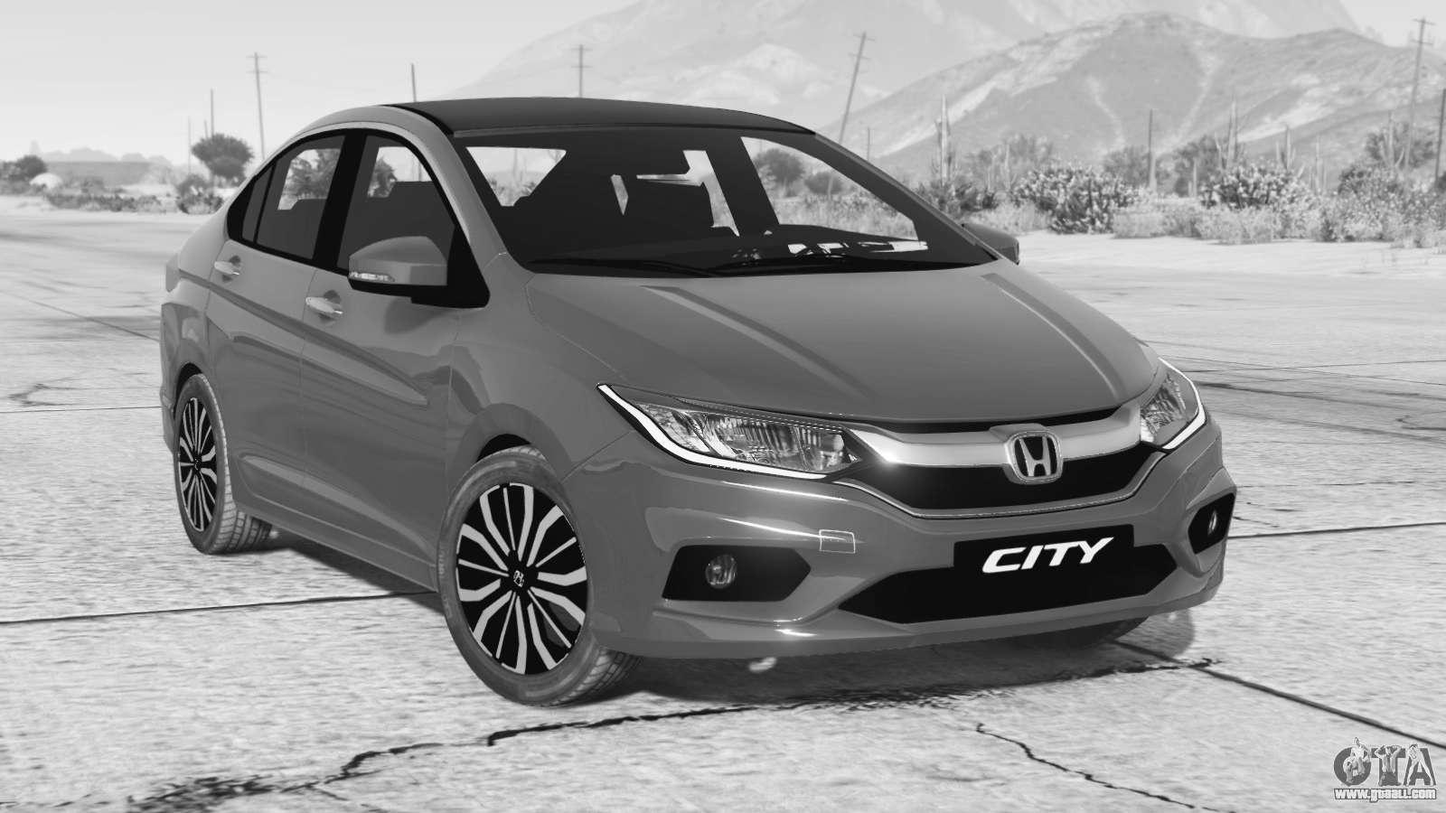Car hood: (511, 262, 1162, 429)
Driver-s door - -F-R-: (275, 88, 466, 586)
Fender - -F-R-: (438, 256, 620, 590)
Fender - -R-R-: (163, 201, 229, 427)
Front bumper: (554, 422, 1249, 666)
Headlight - -L-: (1135, 358, 1206, 452)
Headlight - -R-: (589, 381, 862, 493)
Passenger-s door - -R-R-: (195, 90, 360, 566)
Side bumper - -R-: (224, 465, 452, 617)
Side mirror - -R-: (338, 232, 461, 314)
